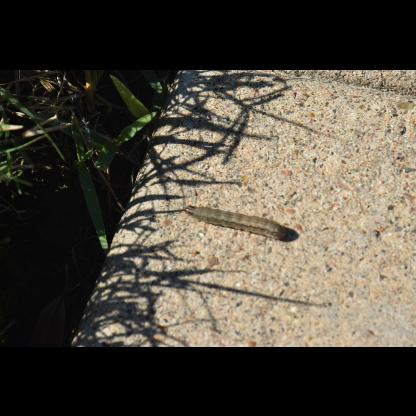Fall Armyworm Larvae: (183, 202, 289, 242)
